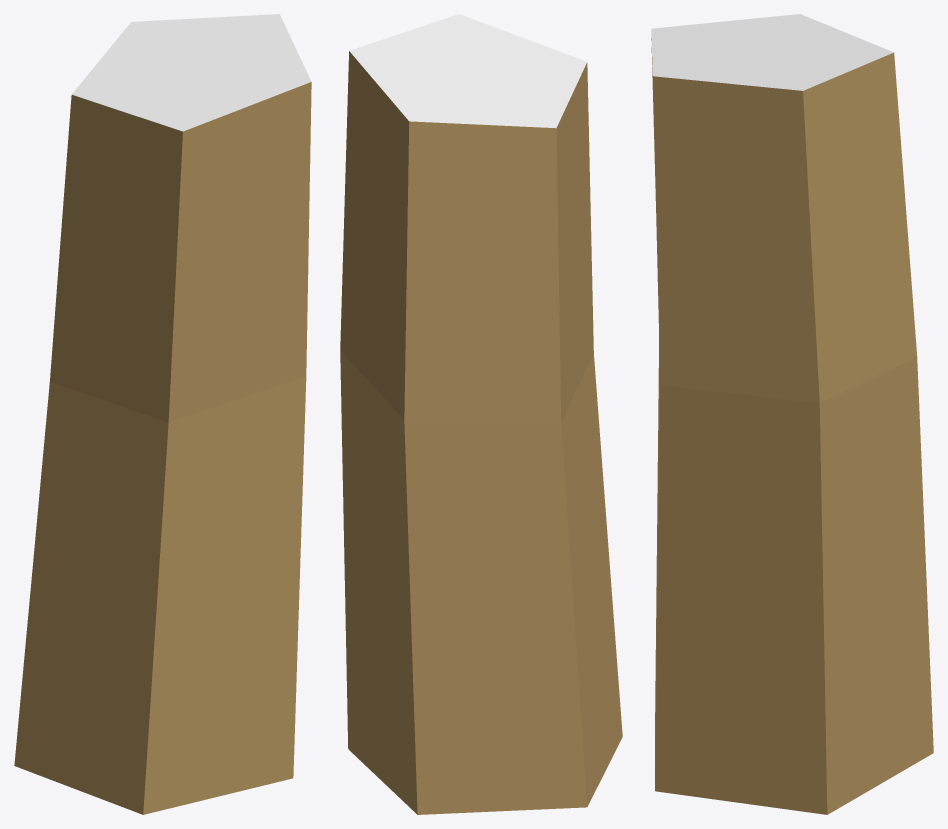
Rendered from Simple_Stump_Snow_01.fbx.
3 views of the same model, side by side, from view 1: azimuth 30°, elevation 25°; view 2: azimuth 150°, elevation 25°; view 3: azimuth 270°, elevation 25° (orthographic). The views are drawn at different scales.
Parts seen in each view (by area): view 1: Simple_Stump_Snow_01; view 2: Simple_Stump_Snow_01; view 3: Simple_Stump_Snow_01.
Part boxes in pixels (x1=…): Simple_Stump_Snow_01: x1=14, y1=14, x2=311, y2=814; Simple_Stump_Snow_01: x1=340, y1=14, x2=622, y2=814; Simple_Stump_Snow_01: x1=651, y1=14, x2=933, y2=814.
Size of the model in its own units: 59.82 by 157 by 55.05.
